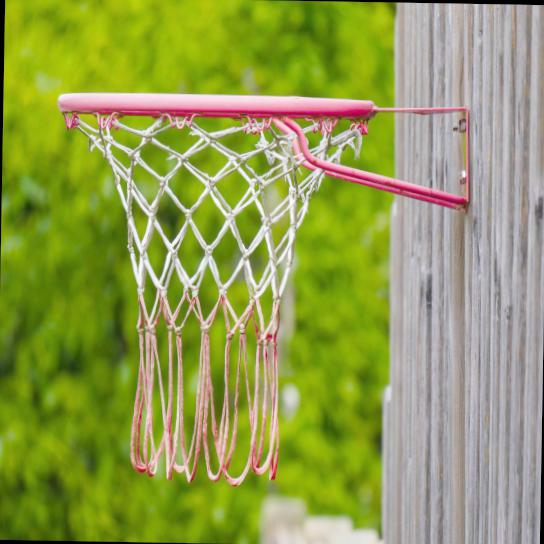basketball-hoop: (50, 89, 375, 492)
